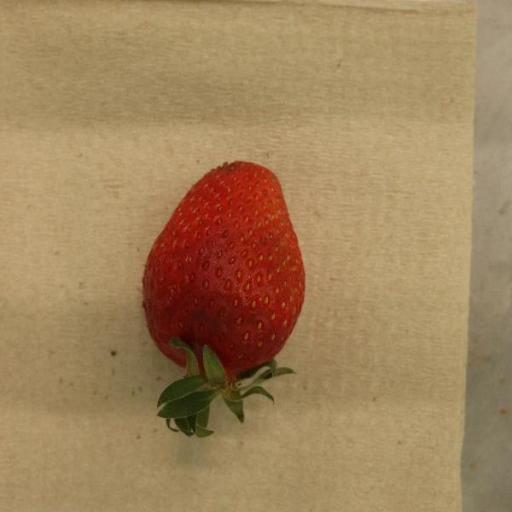Strawberry: (142, 161, 306, 439)
